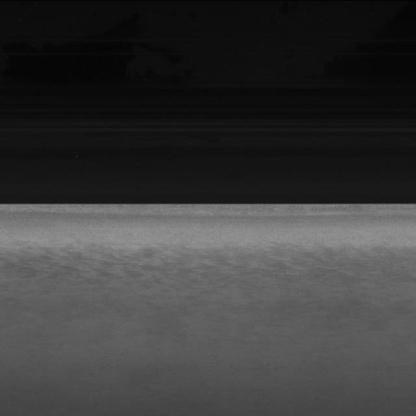silk_spot: (79, 237, 320, 300)
